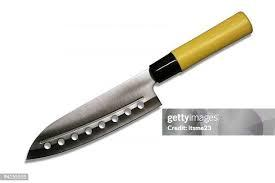Knife: (24, 10, 253, 161)
